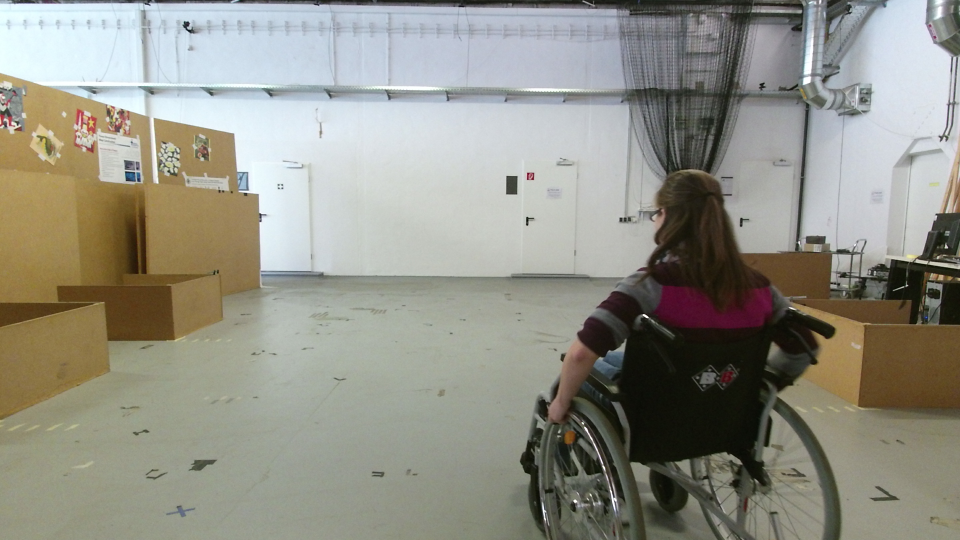wheelchair: (517, 164, 859, 539)
